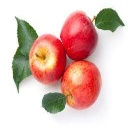apple: (62, 60, 102, 110)
